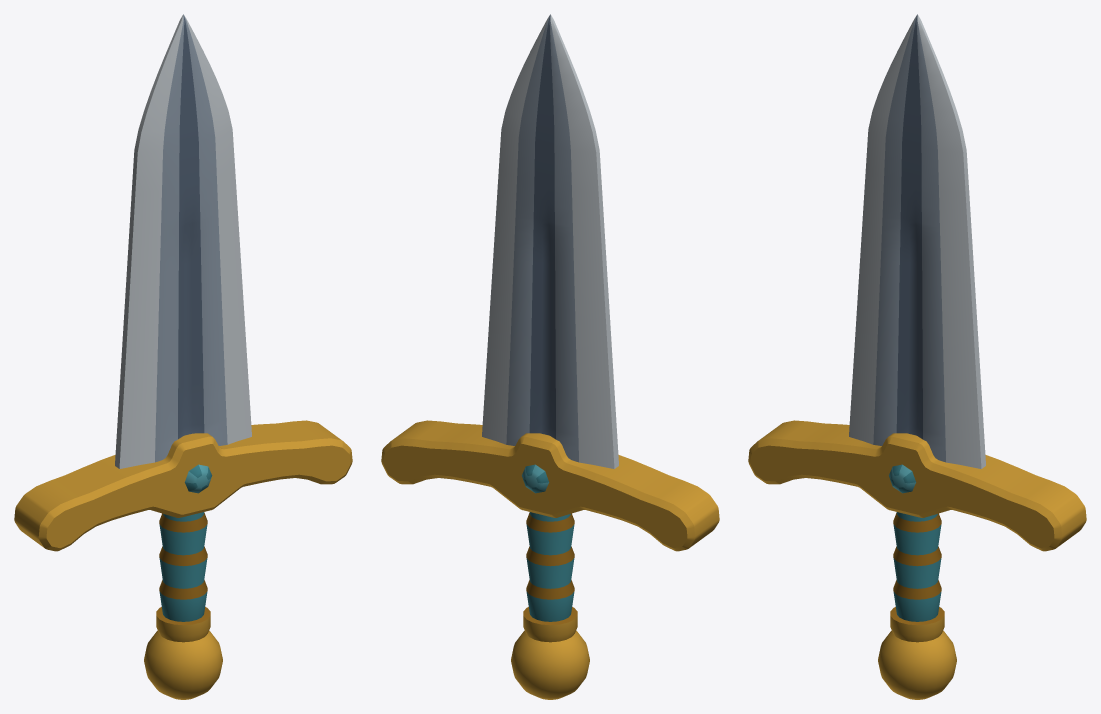
The model's file is Broadsword_03.glb.
The picture shows the model from 3 angles, left to right: view 1: azimuth 30°, elevation 25°; view 2: azimuth 150°, elevation 25°; view 3: azimuth 330°, elevation 25°; orthographic projection.
Parts seen in each view (by area): view 1: Broadsword_03; view 2: Broadsword_03; view 3: Broadsword_03.
Boxes of the visible parts, <box> form: Broadsword_03: <box>14,14,352,699</box>; Broadsword_03: <box>381,14,719,699</box>; Broadsword_03: <box>748,14,1086,699</box>.
Size of the model in its own units: 2.89 by 5.99 by 0.632.
